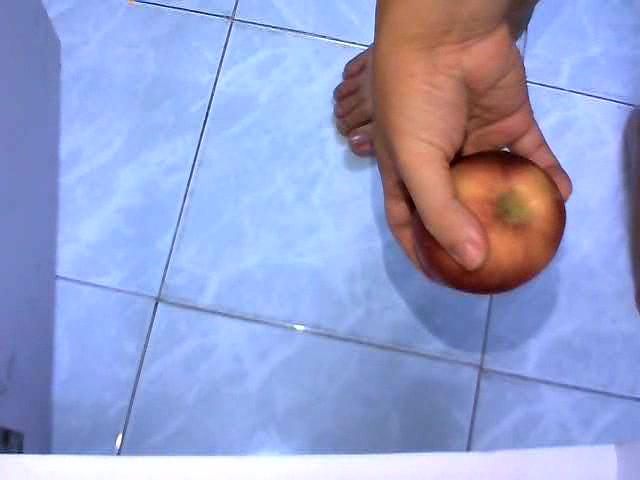apple: (410, 149, 567, 296)
